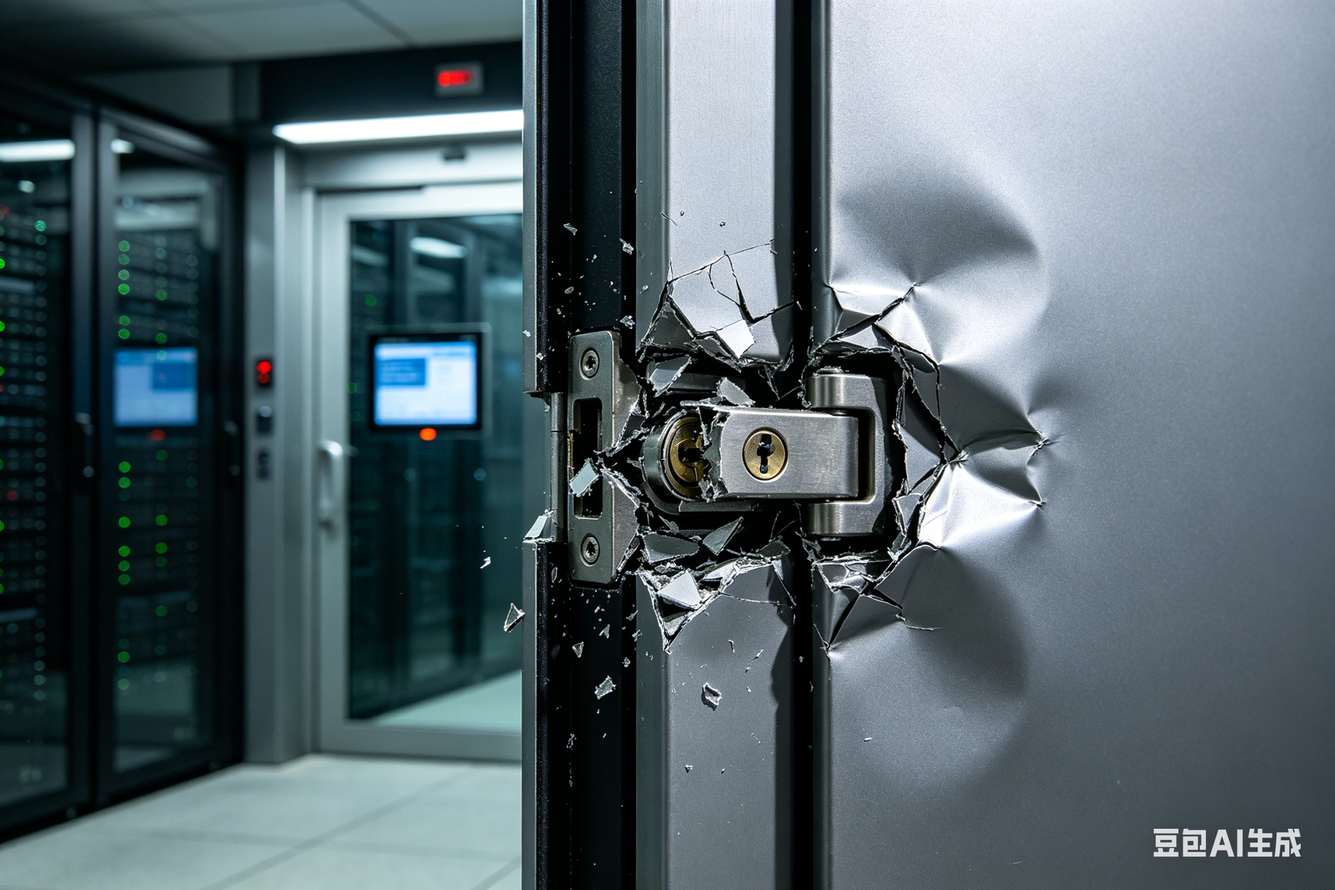BadLock: (582, 306, 994, 581)
